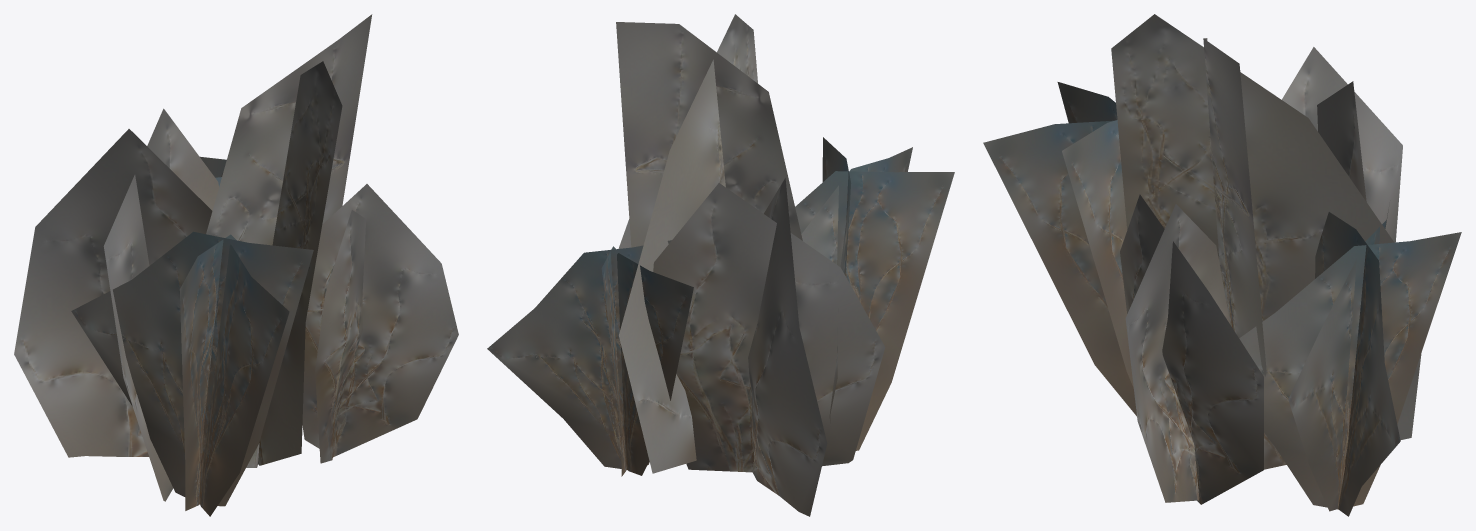
File: sm_DryGrass_01_02.fbx
The picture shows the model from 3 angles, left to right: view 1: azimuth 30°, elevation 25°; view 2: azimuth 150°, elevation 25°; view 3: azimuth 270°, elevation 25°; orthographic projection. The views are drawn at different scales.
Parts seen in each view (by area): view 1: sm_DryGrass_01_02_LOD0; view 2: sm_DryGrass_01_02_LOD0; view 3: sm_DryGrass_01_02_LOD0.
Boxes of the visible parts, box(x1,y1,x2,y2) form: sm_DryGrass_01_02_LOD0: box(14, 14, 458, 516); sm_DryGrass_01_02_LOD0: box(487, 14, 954, 516); sm_DryGrass_01_02_LOD0: box(983, 14, 1461, 516).
Bounding box in the file's own units: 71.26 × 74.42 × 82.42.
